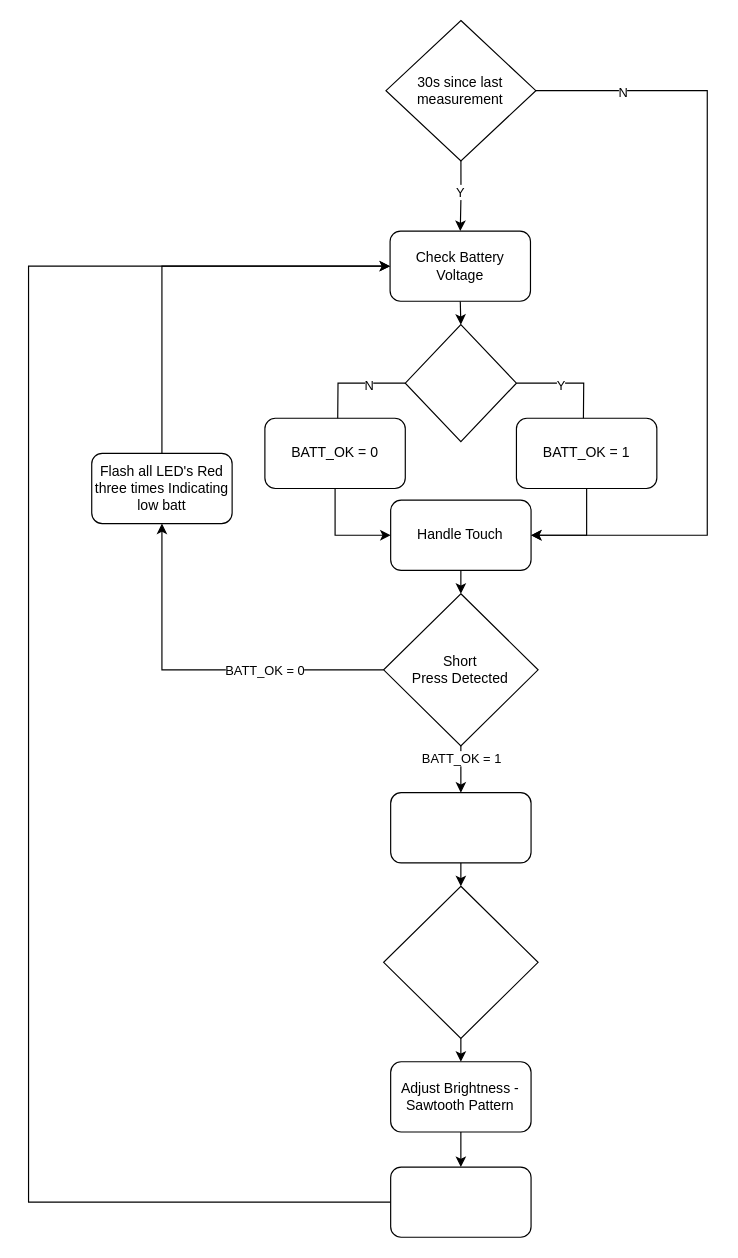
Some shapes in this 738 by 1258 pixel diagram are drawn without their labels. Each missing label, with the centre of its shape:
"Long Press Detected" belongs at point (460, 961).
"Reading > Threshold" belongs at point (460, 383).
"Toggle Lights" belongs at point (460, 827).
"Update Lights" belongs at point (460, 1201).
